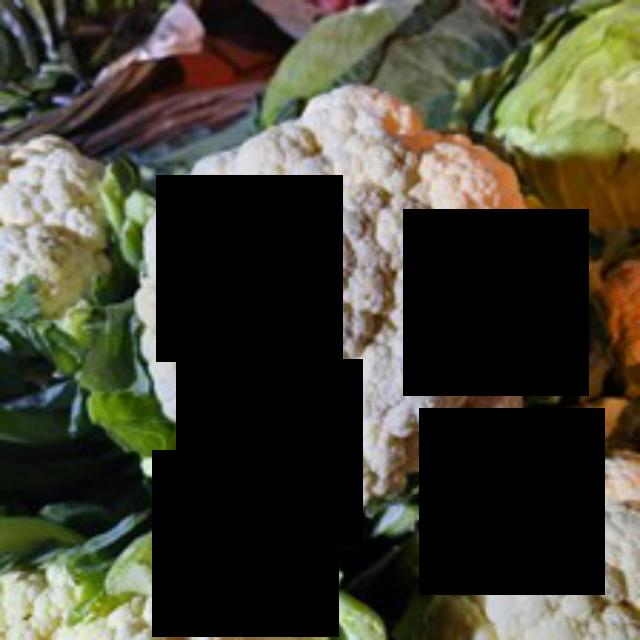cauliflower: (129, 85, 584, 539)
